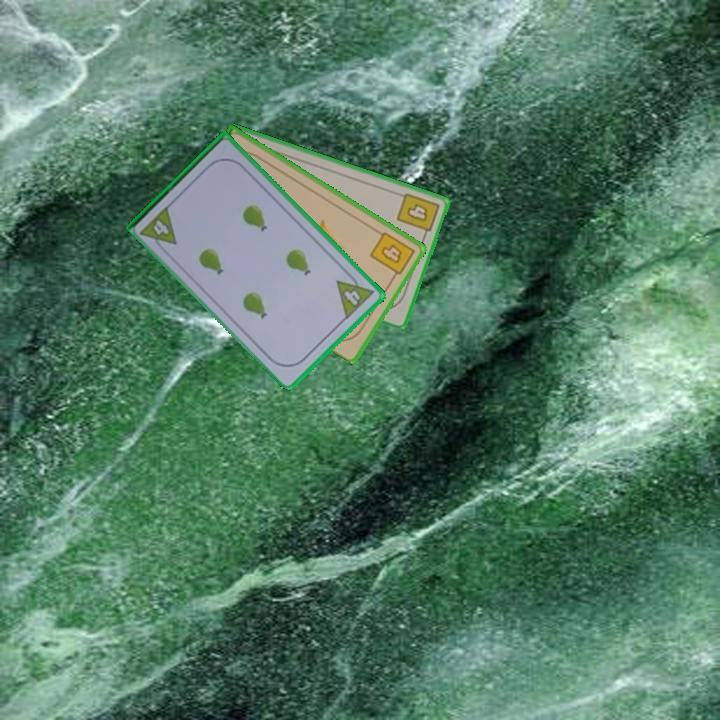4b: (366, 228, 418, 282), (393, 189, 442, 241)
4p: (333, 267, 377, 322), (137, 202, 180, 256)
